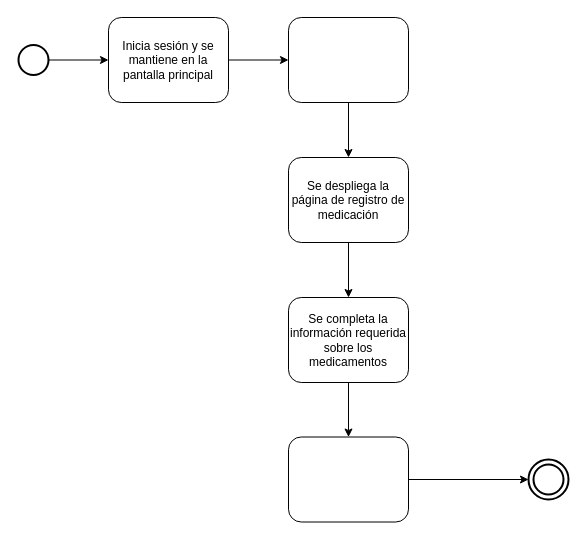
Image size: 586x540. Some labels were removed from this diagram. Each missing label, with the box of its shape:
Presiona la opción "Registrar medicación": (288, 436, 408, 522)
Presiona la opción "Registrar mi medicación consumida": (288, 16, 408, 102)
